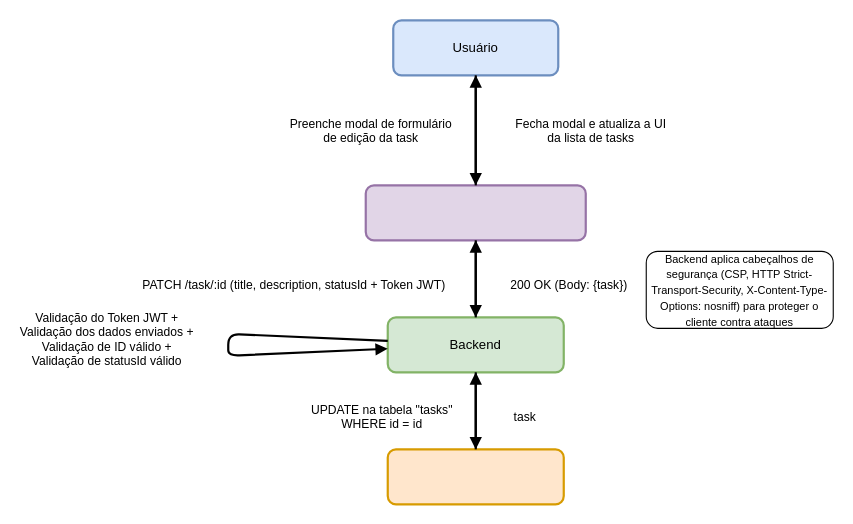
Image size: 853x524. Some labels were removed from this diagram. Each missing label, with the box of its shape:
Banco de Dados: (386, 448, 564, 505)
Frontend/Navegador: (364, 184, 586, 241)
